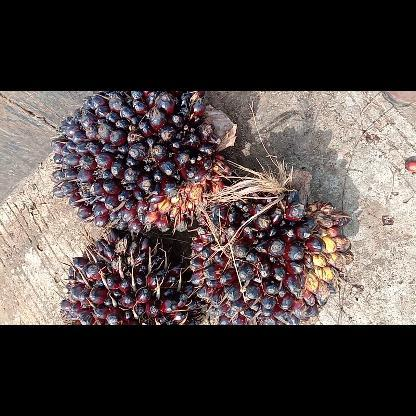TBS mentah: (48, 90, 242, 238), (186, 165, 358, 324), (60, 228, 209, 324)
